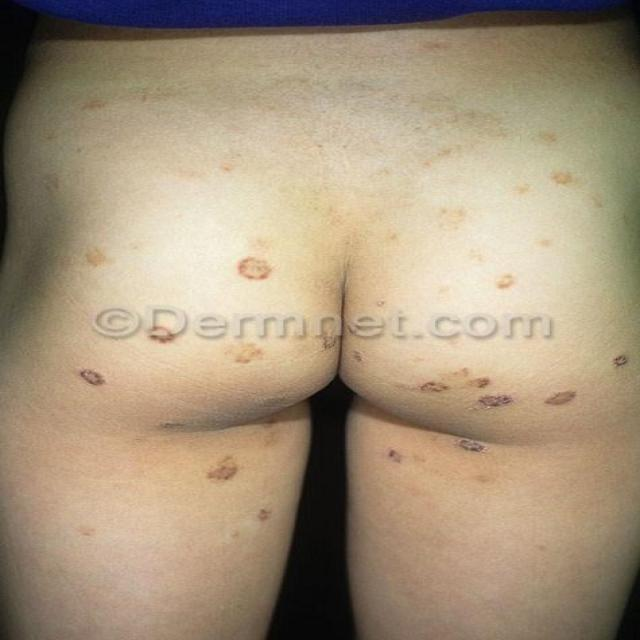Eczema: (59, 152, 628, 476)
